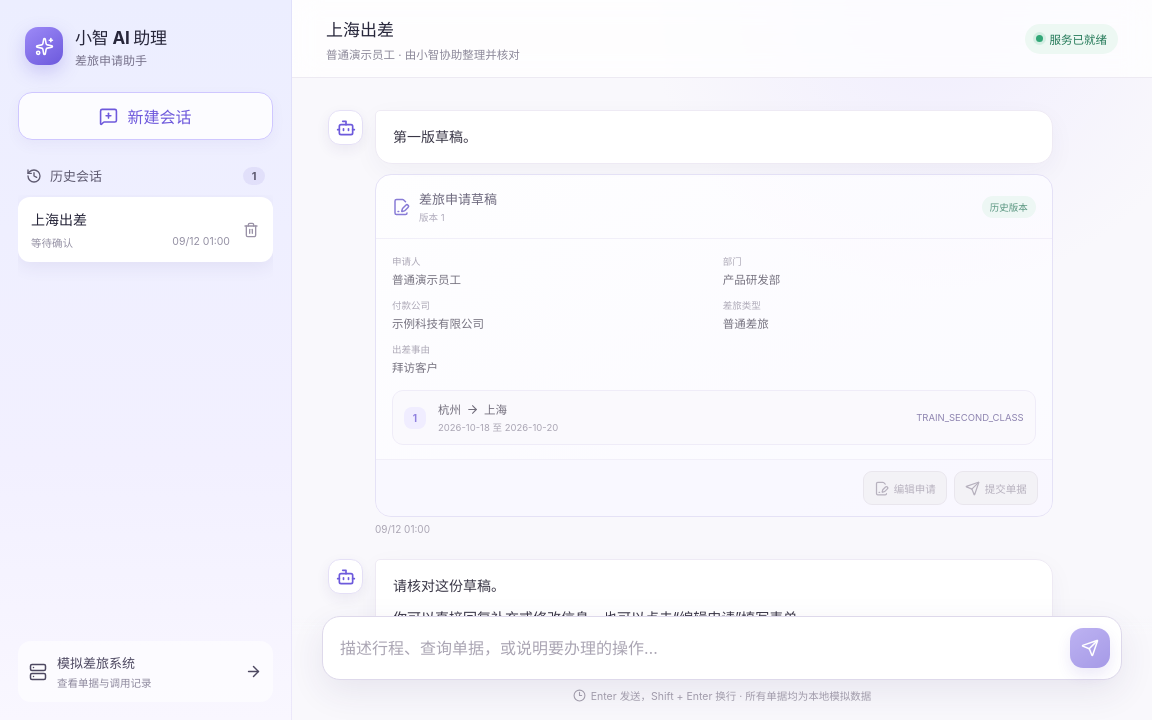
Test: 差旅草稿卡片 › 发送新消息立即锁定创建卡片，下一轮没有新草稿时旧卡仍只读
Type "查一下下一次出差" into the text box named "发送给小智的消息".
click(700, 649); type("查一下下一次出差")  # box [340,629,1060,668]
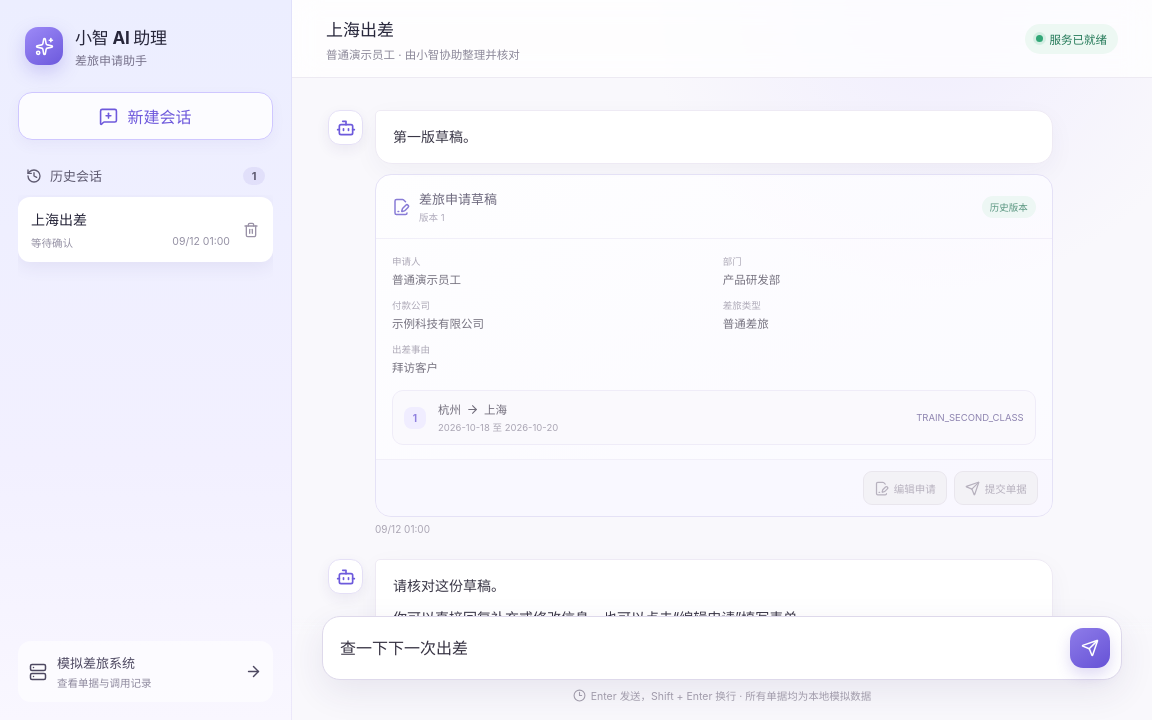
Click the button named "发送消息".
click(1090, 648)  # box [1070,628,1110,668]
(page scrolled)
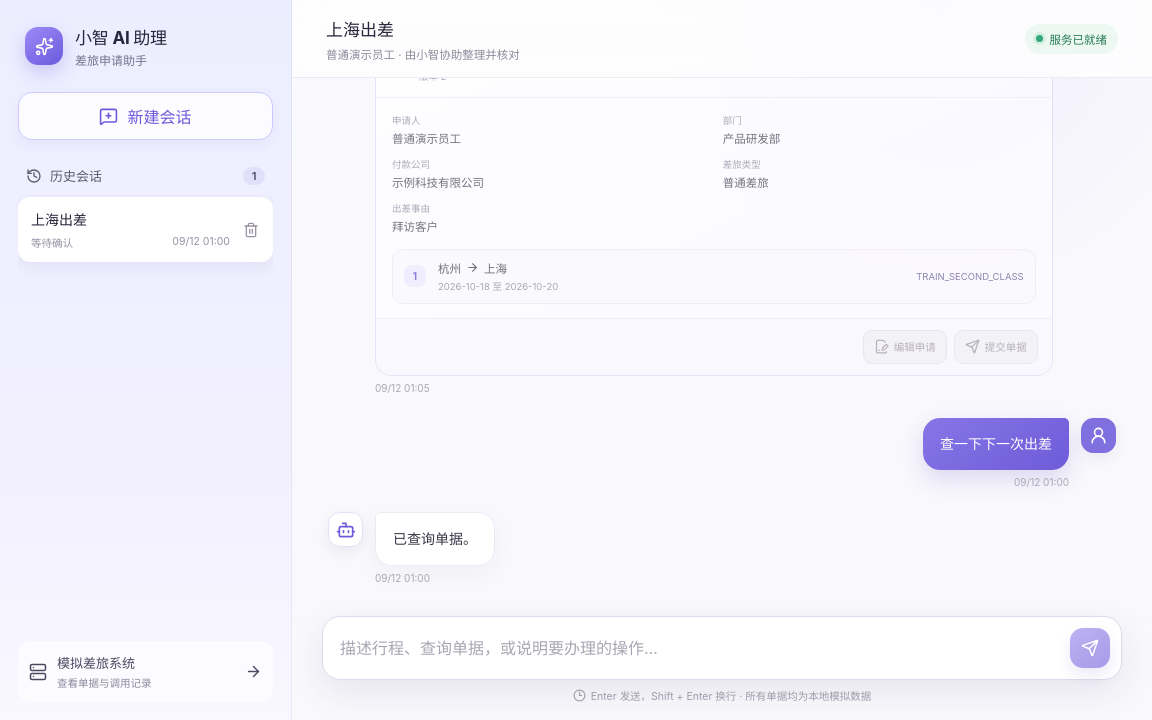
Expected: the button "编辑申请" is disabled, [863,330,947,364]
Result: the text "已查询单据。" is shown at [393,527,477,551]
